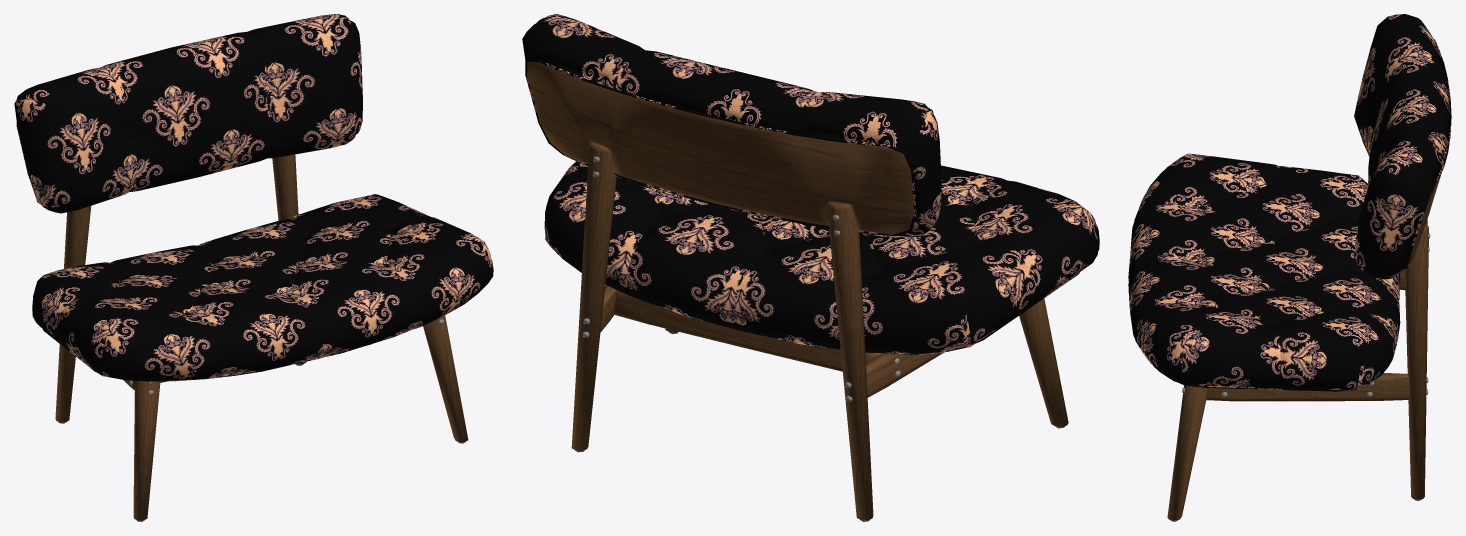
The model's file is barockstuhl.glb.
The picture shows the model from 3 angles, left to right: view 1: azimuth 30°, elevation 25°; view 2: azimuth 150°, elevation 25°; view 3: azimuth 270°, elevation 25°; orthographic projection. The views are drawn at different scales.
Visible parts, largest first — view 1: oval-tufted-chair_seat-fabric, oval-tufted-chair_back-fabric, oval-tufted-chair_legs-frame, oval-tufted-chair_seat-buttons; view 2: oval-tufted-chair_seat-fabric, oval-tufted-chair_back-panel, oval-tufted-chair_legs-frame, oval-tufted-chair_back-fabric, oval-tufted-chair_back-buttons; view 3: oval-tufted-chair_seat-fabric, oval-tufted-chair_back-fabric, oval-tufted-chair_legs-frame, oval-tufted-chair_back-buttons, oval-tufted-chair_seat-buttons, oval-tufted-chair_back-panel.
Part boxes in pixels (left/top/right/bottom): oval-tufted-chair_seat-fabric: left=32, top=194, right=493, bottom=380; oval-tufted-chair_back-fabric: left=14, top=14, right=362, bottom=213; oval-tufted-chair_legs-frame: left=55, top=154, right=468, bottom=520; oval-tufted-chair_seat-buttons: left=43, top=227, right=401, bottom=381; oval-tufted-chair_seat-fabric: left=544, top=161, right=1099, bottom=354; oval-tufted-chair_back-panel: left=527, top=62, right=913, bottom=234; oval-tufted-chair_legs-frame: left=571, top=142, right=1068, bottom=520; oval-tufted-chair_back-fabric: left=522, top=14, right=941, bottom=237; oval-tufted-chair_back-buttons: left=525, top=58, right=916, bottom=236; oval-tufted-chair_seat-fabric: left=1128, top=153, right=1400, bottom=390; oval-tufted-chair_back-fabric: left=1354, top=14, right=1450, bottom=279; oval-tufted-chair_legs-frame: left=1167, top=219, right=1428, bottom=520; oval-tufted-chair_back-buttons: left=1376, top=39, right=1451, bottom=268; oval-tufted-chair_seat-buttons: left=1172, top=183, right=1364, bottom=391; oval-tufted-chair_back-panel: left=1198, top=173, right=1441, bottom=391.
Size of the model in its own units: 0.8286 by 0.6865 by 0.5716.
Materials: 4 (3 with a texture image).
